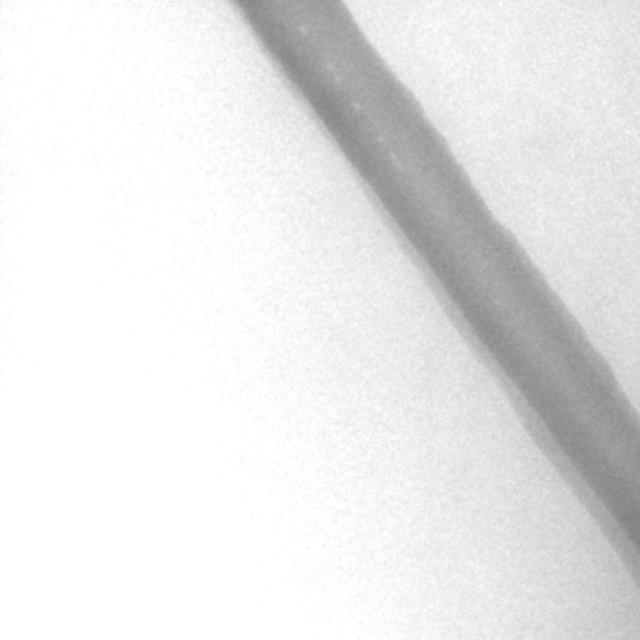air hole: (350, 98, 361, 112)
